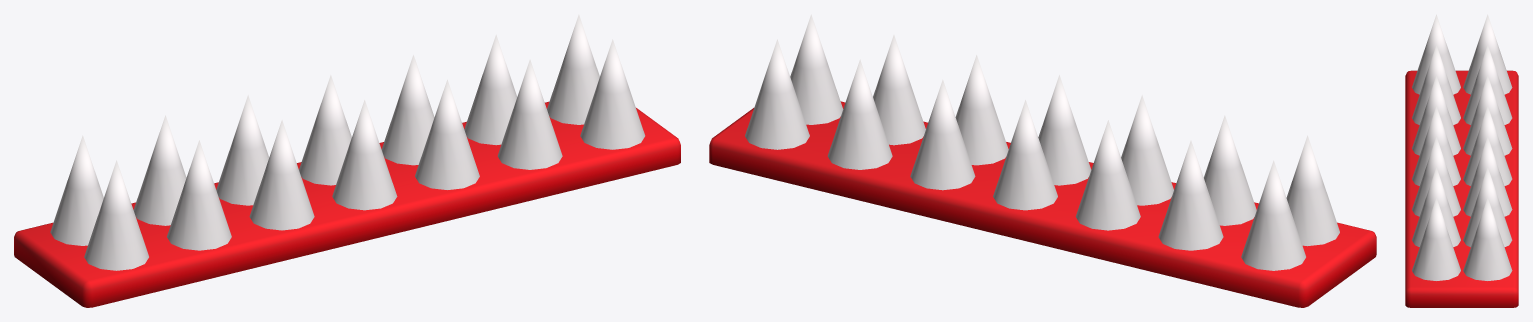
The model's file is obs_02_1.fbx.
3 renders of one model, left to right at view 1: azimuth 30°, elevation 25°; view 2: azimuth 150°, elevation 25°; view 3: azimuth 270°, elevation 25°, orthographic. The views are drawn at different scales.
Visible parts, largest first — view 1: obs_2_1; view 2: obs_2_1; view 3: obs_2_1.
Part boxes in pixels (x1,y1,x2,y2): obs_2_1: (14,14,680,307); obs_2_1: (709,14,1376,307); obs_2_1: (1405,14,1518,307).
Size of the model in its own units: 297 by 57.74 by 64.28.
